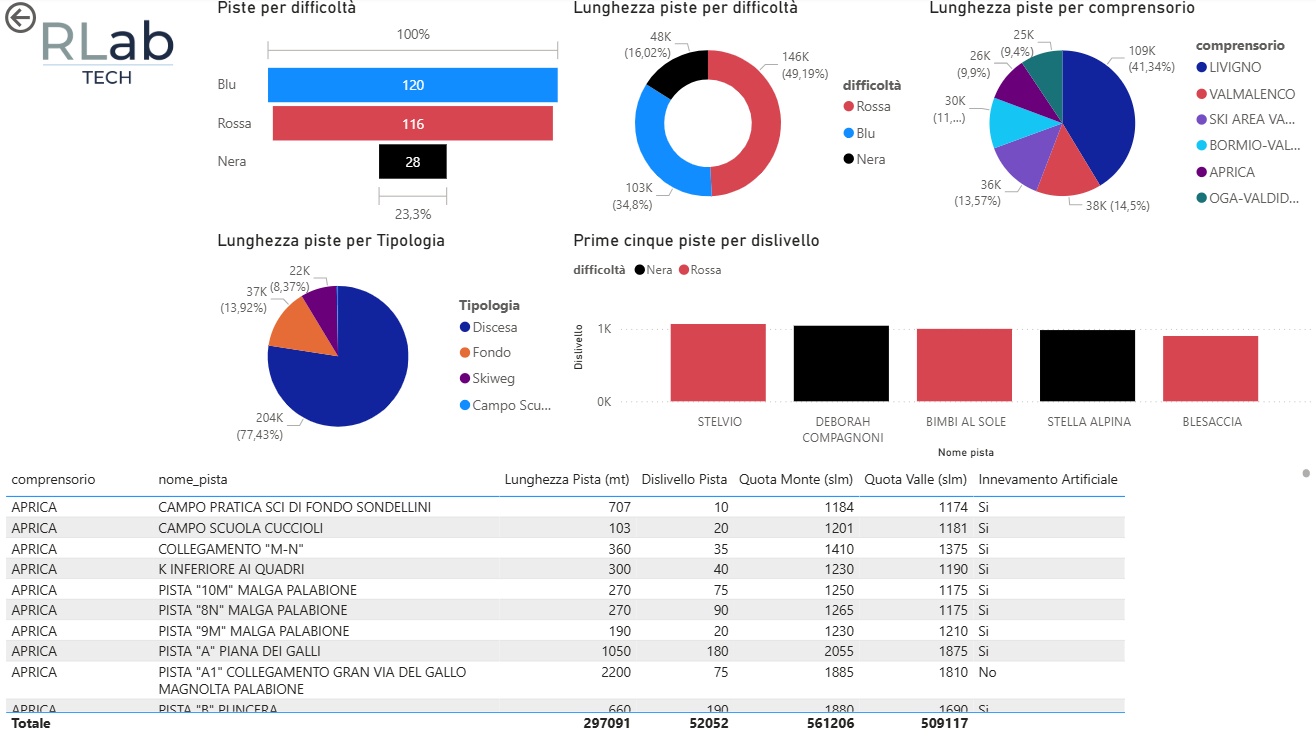

The page's visual inventory and layout, read from the dashboard file:
{"tool":"powerbi","page":{"name":"Dettaglio Piste","canvas":[1280,720],"ordinal":1},"visuals":[{"type":"funnel","fields":{"Category":["Piste-da-sci_8c8w-y5ce.difficolta_pista"],"Y":["Piste-da-sci_8c8w-y5ce.__id"]},"box":[206.2,0,346.3,226.6],"z":0},{"type":"image","box":[0,0,206.2,114.8],"z":1000},{"type":"actionButton","box":[0,0,100,40],"z":2000},{"type":"tableEx","fields":{"Values":["Piste-da-sci_8c8w-y5ce.comprensorio","Piste-da-sci_8c8w-y5ce.nome_pista","Piste-da-sci_8c8w-y5ce.lunghezza_pista","Piste-da-sci_8c8w-y5ce.dislivello_medio","Piste-da-sci_8c8w-y5ce.quota_monte","Piste-da-sci_8c8w-y5ce.quota_valle","Piste-da-sci_8c8w-y5ce.innevamento_artificiale_formatted"]},"box":[0,453.3,1280,266.5],"z":3000},{"type":"donutChart","fields":{"Category":["Piste-da-sci_8c8w-y5ce.difficolta_pista"],"Y":["Piste-da-sci_8c8w-y5ce.lunghezza_pista"]},"box":[552.5,0,346.3,226.6],"z":4000},{"type":"pieChart","fields":{"Category":["Piste-da-sci_8c8w-y5ce.comprensorio"],"Y":["Piste-da-sci_8c8w-y5ce.lunghezza_pista"]},"box":[898.7,0,381.3,226.6],"z":5000},{"type":"pieChart","fields":{"Y":["Piste-da-sci_8c8w-y5ce.lunghezza_pista"],"Category":["Piste-da-sci_8c8w-y5ce.tipologia_pista"]},"box":[206.2,226.6,346.3,226.6],"z":6000},{"type":"columnChart","title":"Prime cinque piste per dislivello","fields":{"Category":["Piste-da-sci_8c8w-y5ce.nome_pista"],"Series":["Piste-da-sci_8c8w-y5ce.difficolta_pista"],"Y":["Piste-da-sci_8c8w-y5ce.dislivello_medio"]},"box":[552.5,226.6,727.5,226.6],"z":7000}]}

Visuals, with their boxes in screenshot pixels (x1, y1, x2, y2), scaled from the page's 1280x720 canvas onto the 1316x737 screenshot:
funnel - Piste-da-sci_8c8w-y5ce.difficolta_pista x Piste-da-sci_8c8w-y5ce.__id: {"x1": 212, "y1": 0, "x2": 568, "y2": 232}
image: {"x1": 0, "y1": 0, "x2": 212, "y2": 118}
actionButton: {"x1": 0, "y1": 0, "x2": 103, "y2": 41}
tableEx - Piste-da-sci_8c8w-y5ce.comprensorio x Piste-da-sci_8c8w-y5ce.nome_pista: {"x1": 0, "y1": 464, "x2": 1315, "y2": 736}
donutChart - Piste-da-sci_8c8w-y5ce.difficolta_pista x Piste-da-sci_8c8w-y5ce.lunghezza_pista: {"x1": 568, "y1": 0, "x2": 924, "y2": 232}
pieChart - Piste-da-sci_8c8w-y5ce.comprensorio x Piste-da-sci_8c8w-y5ce.lunghezza_pista: {"x1": 924, "y1": 0, "x2": 1315, "y2": 232}
pieChart - Piste-da-sci_8c8w-y5ce.lunghezza_pista x Piste-da-sci_8c8w-y5ce.tipologia_pista: {"x1": 212, "y1": 232, "x2": 568, "y2": 464}
"Prime cinque piste per dislivello" columnChart: {"x1": 568, "y1": 232, "x2": 1315, "y2": 464}
